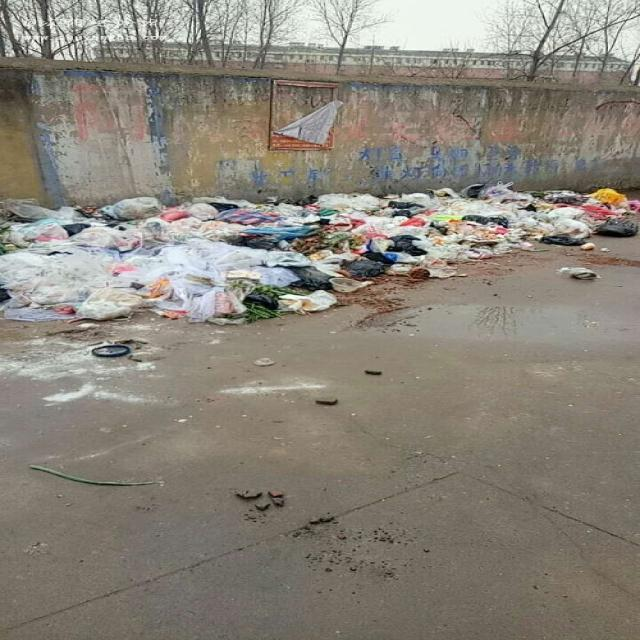garbage: (0, 181, 639, 358)
